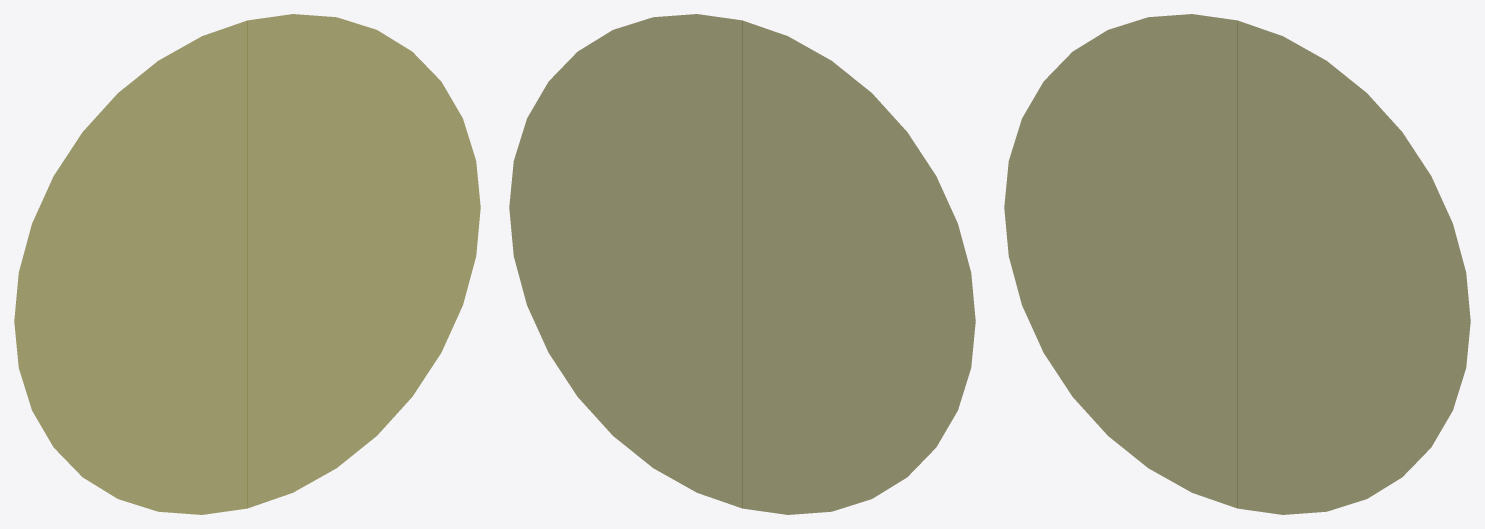
Rendered from Shield.obj.
The picture shows the model from 3 angles, left to right: view 1: azimuth 30°, elevation 25°; view 2: azimuth 150°, elevation 25°; view 3: azimuth 330°, elevation 25°; orthographic projection.
Visible parts, largest first — view 1: Circle_Circle.001; view 2: Circle_Circle.001; view 3: Circle_Circle.001.
Part boxes in pixels (box(x1,y1,x2,y2)): Circle_Circle.001: box(14, 14, 480, 514); Circle_Circle.001: box(509, 14, 975, 514); Circle_Circle.001: box(1004, 14, 1470, 514).
Size of the model in its own units: 2 by 2 by 0.
